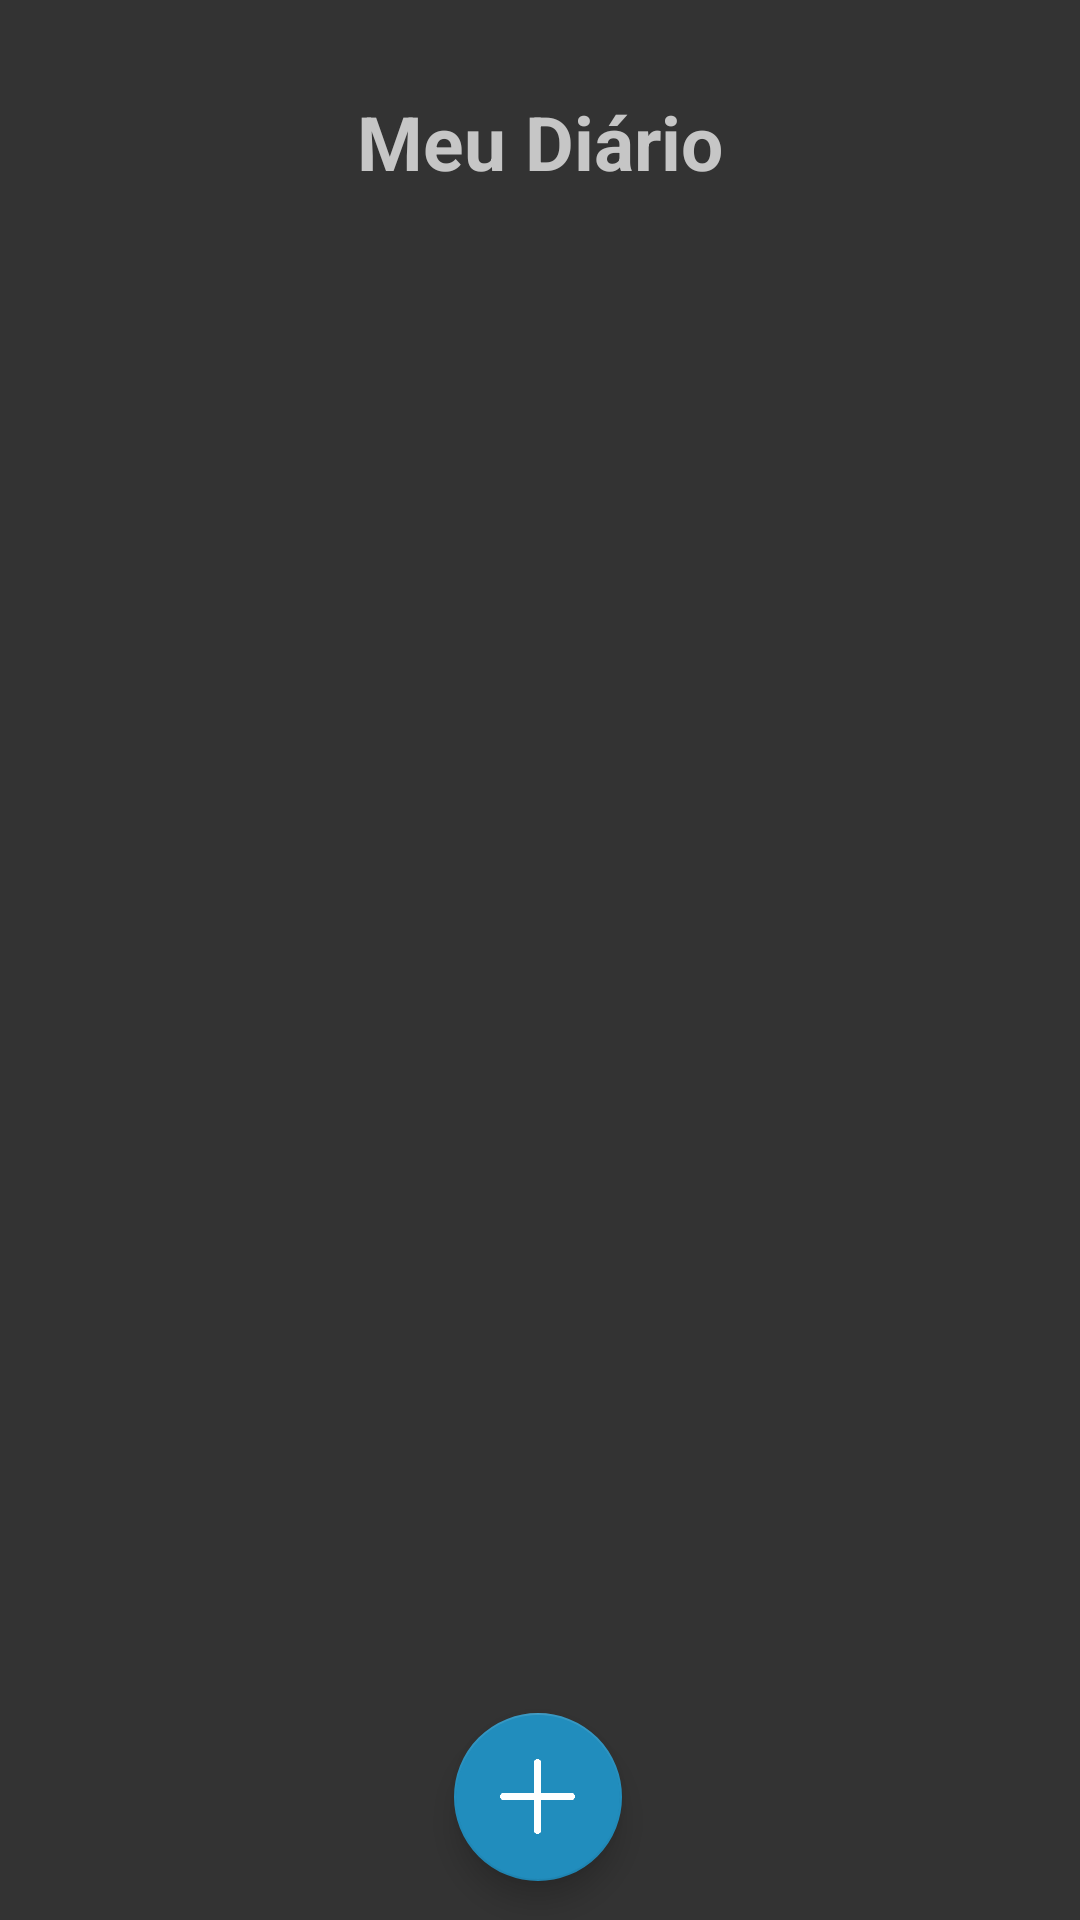

Icon click points for this 1080*1920 phone screenshot, format (x,y):
adicionar nova nota: (538,1797)
